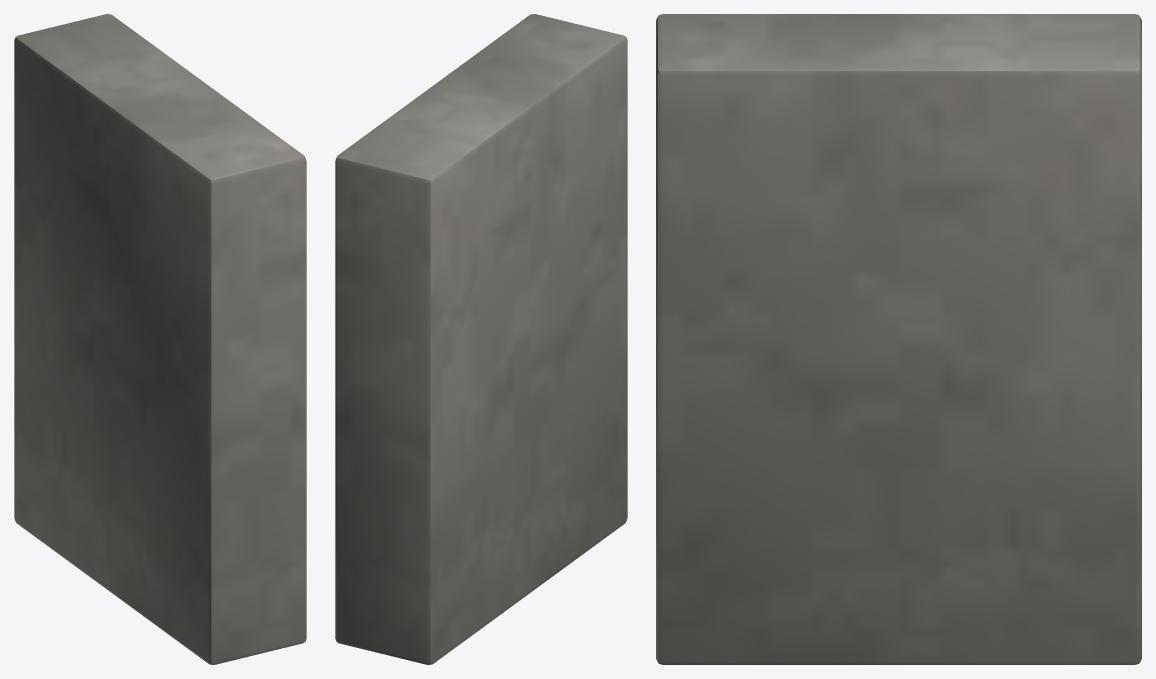
The model's file is ALV-BCO-005_lod1.glb.
The picture shows the model from 3 angles, left to right: view 1: azimuth 30°, elevation 25°; view 2: azimuth 150°, elevation 25°; view 3: azimuth 270°, elevation 25°; orthographic projection. The views are drawn at different scales.
Visible parts, largest first — view 1: ALV-BCO-005_peca; view 2: ALV-BCO-005_peca; view 3: ALV-BCO-005_peca.
Boxes of the visible parts, x1,y1,x2,y2 form: ALV-BCO-005_peca: (14,14,306,664); ALV-BCO-005_peca: (335,14,627,664); ALV-BCO-005_peca: (656,14,1141,664).
Bounding box in the file's own units: 0.04 × 0.19 × 0.14.
Materials: 1 (1 with a texture image).
